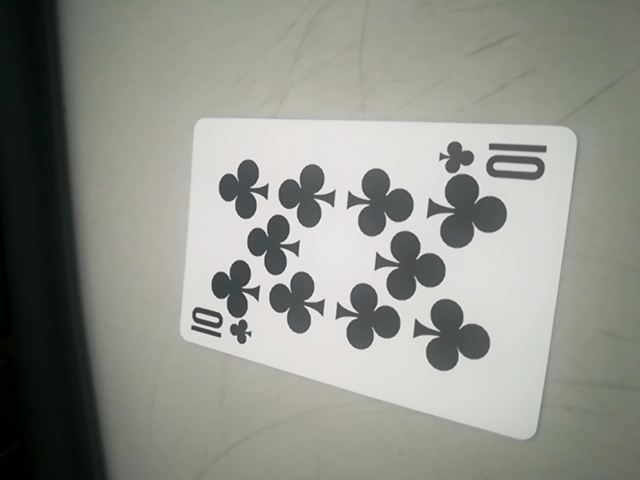mh 10: (175, 116, 583, 437)
